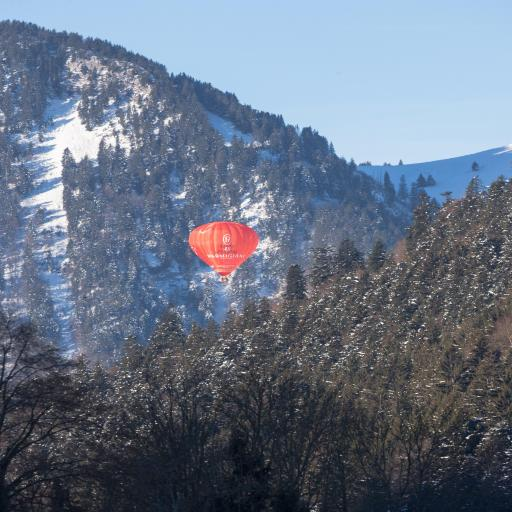hot air ballon: (189, 222, 259, 282)
